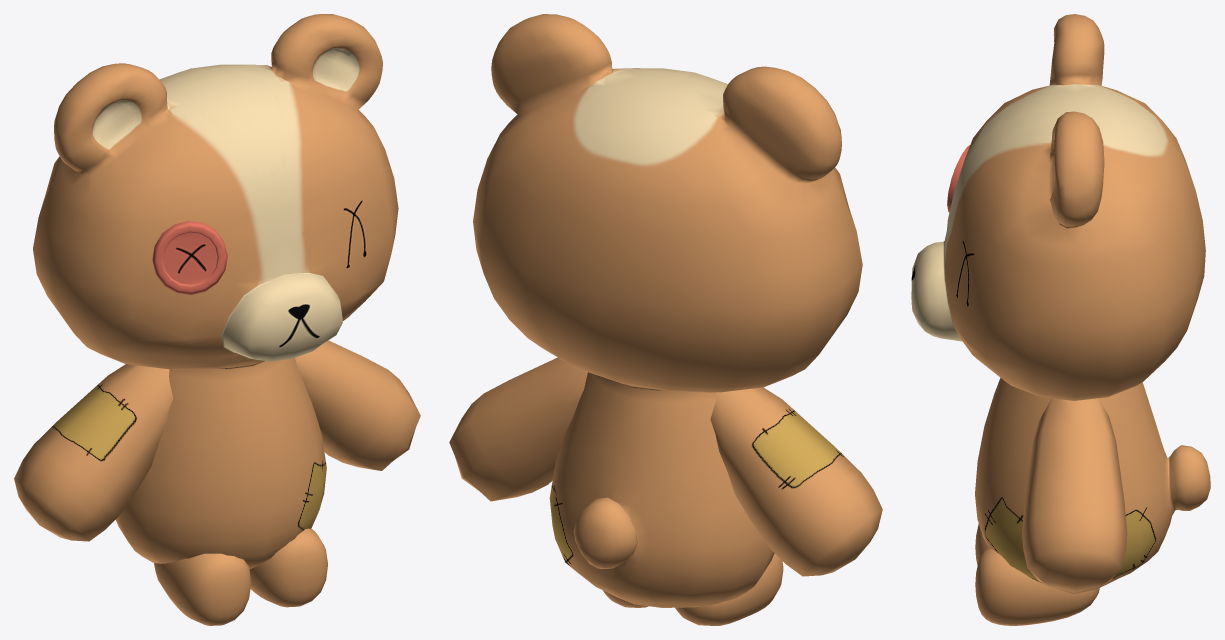
File: bear_sit.fbx
3 renders of one model, left to right at view 1: azimuth 30°, elevation 25°; view 2: azimuth 150°, elevation 25°; view 3: azimuth 270°, elevation 25°, orthographic. The views are drawn at different scales.
Parts seen in each view (by area): view 1: body, R_arm, L_arm, R_arm1, eye, L_arm1; view 2: body, R_arm, L_arm, R_arm1; view 3: body, L_arm, L_arm1.
Boxes of the visible parts, x1,y1,x2,y2 form: body: [33, 14, 398, 568]; R_arm: [14, 364, 173, 541]; L_arm: [295, 340, 420, 470]; R_arm1: [154, 553, 251, 625]; eye: [152, 220, 227, 295]; L_arm1: [249, 528, 327, 607]; body: [473, 14, 862, 607]; R_arm: [710, 387, 882, 576]; L_arm: [449, 357, 587, 501]; R_arm1: [675, 553, 783, 625]; body: [911, 14, 1210, 594]; L_arm: [1022, 398, 1127, 592]; L_arm1: [975, 547, 1099, 625].
Size of the model in its own units: 69.02 by 93.46 by 47.33.
Materials: 1 (1 with a texture image).
